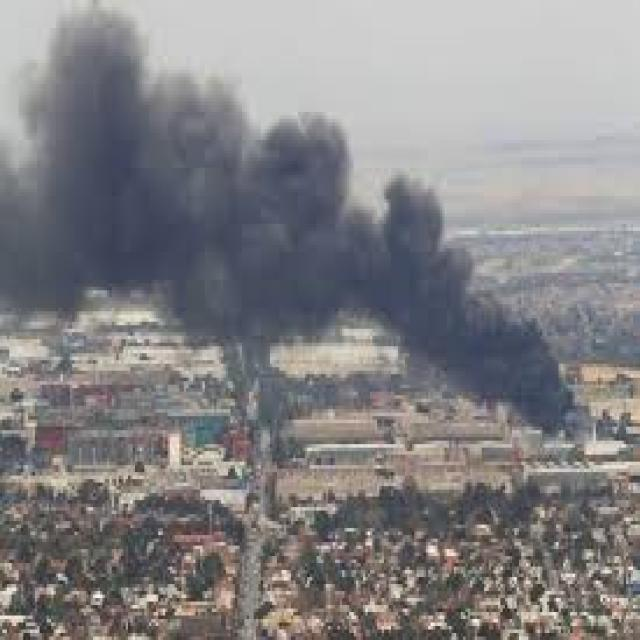Smoke: (0, 12, 587, 470)
